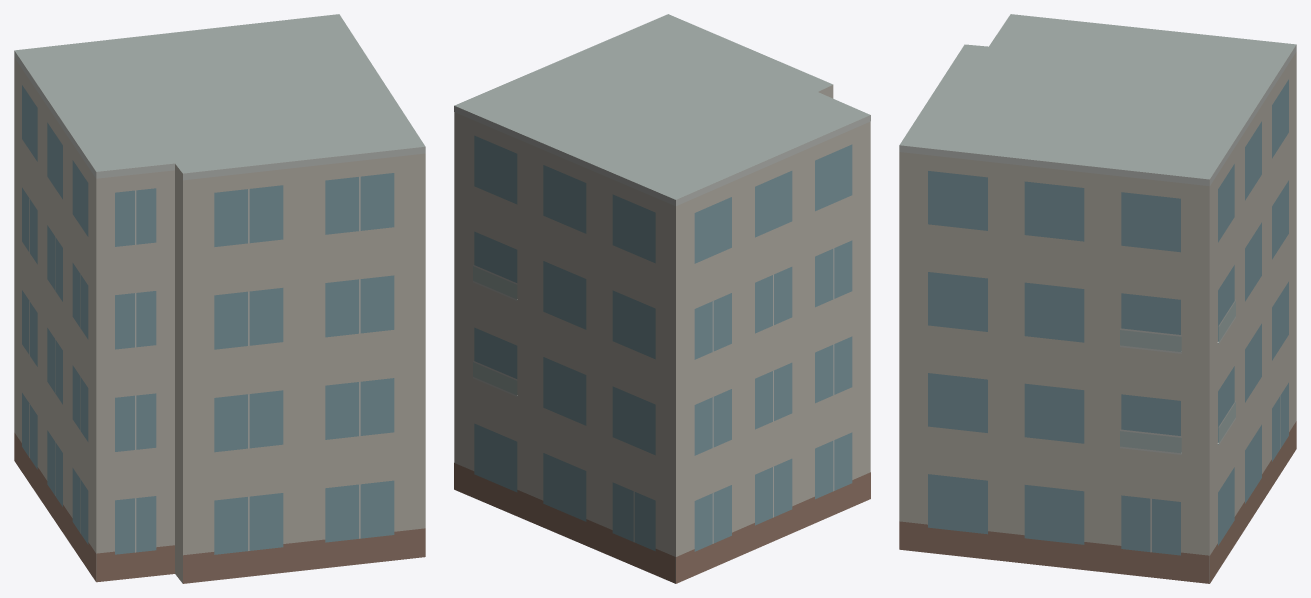
The model's file is survey-upis-32820866.glb.
The picture shows the model from 3 angles, left to right: view 1: azimuth 30°, elevation 25°; view 2: azimuth 150°, elevation 25°; view 3: azimuth 270°, elevation 25°; orthographic projection. The views are drawn at different scales.
Parts seen in each view (by area): view 1: survey-upis-32820866.tmp; view 2: survey-upis-32820866.tmp; view 3: survey-upis-32820866.tmp.
Boxes of the visible parts, x1,y1,x2,y2 form: survey-upis-32820866.tmp: (14,14,425,583); survey-upis-32820866.tmp: (454,14,870,583); survey-upis-32820866.tmp: (899,14,1296,583).
Size of the model in its own units: 12.91 by 14.7 by 13.1.
